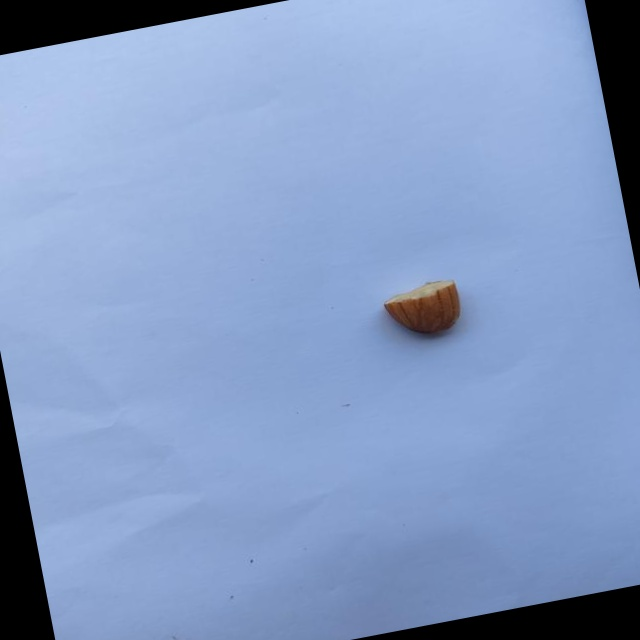grade4: (372, 272, 473, 350)
